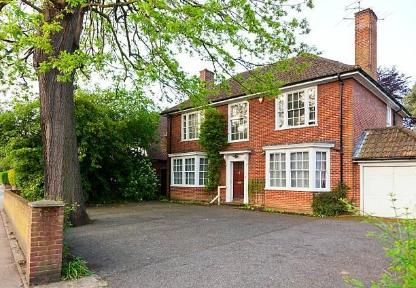door: (229, 157, 246, 203)
tree: (0, 0, 183, 228)
